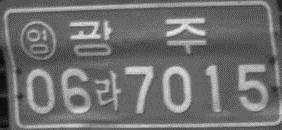0: (161, 64, 193, 114), (25, 68, 56, 115)
1: (199, 63, 231, 113)
5: (237, 63, 269, 112)
6: (60, 66, 92, 114)
7: (124, 65, 154, 114)
광주_D: (69, 17, 208, 56)
라: (93, 69, 122, 111)
영: (19, 20, 57, 61)
